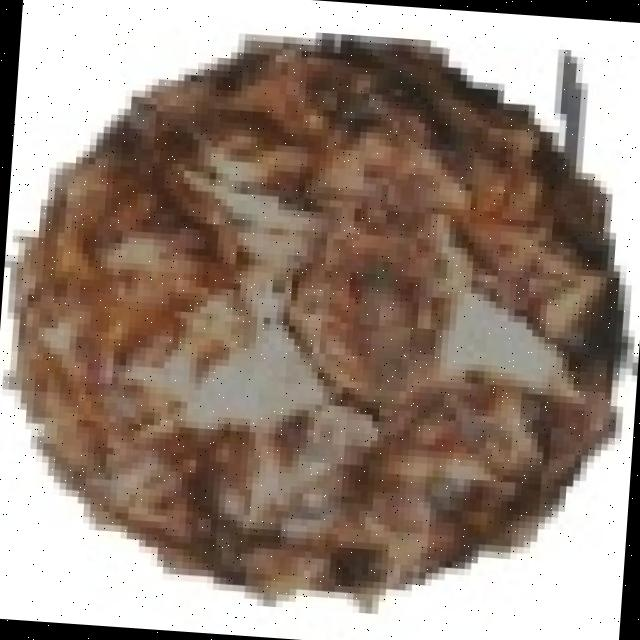pineapple: (7, 57, 609, 611)
